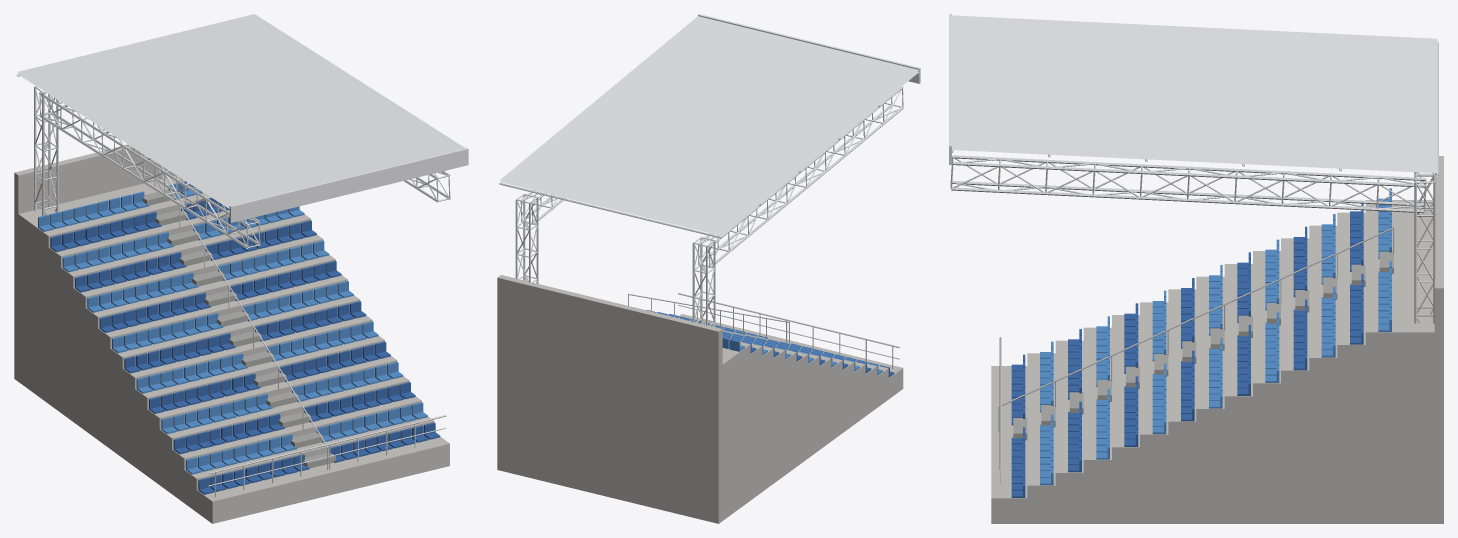
Rendered from bay_10m_large_roof.glb.
The picture shows the model from 3 angles, left to right: view 1: azimuth 30°, elevation 25°; view 2: azimuth 150°, elevation 25°; view 3: azimuth 270°, elevation 25°; orthographic projection. The views are drawn at different scales.
Parts seen in each view (by area): view 1: bay_10m_large_roof; view 2: bay_10m_large_roof; view 3: bay_10m_large_roof.
Part boxes in pixels (<box>): bay_10m_large_roof: <box>14,14,468,523</box>; bay_10m_large_roof: <box>497,14,920,523</box>; bay_10m_large_roof: <box>949,14,1443,523</box>.
Size of the model in its own units: 10 by 13.32 by 15.8.
